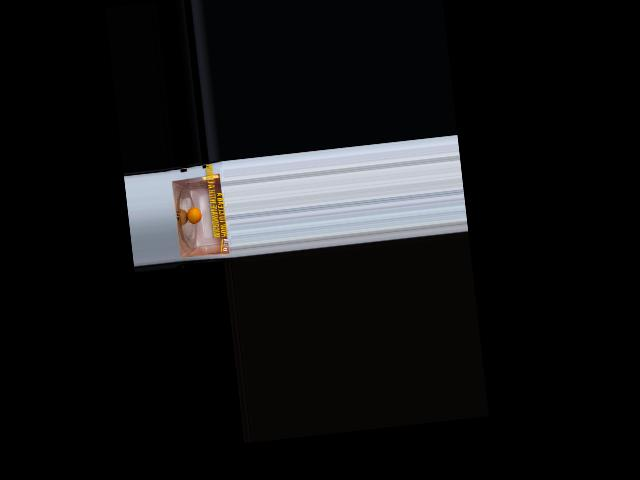lemon: (182, 198, 204, 225)
